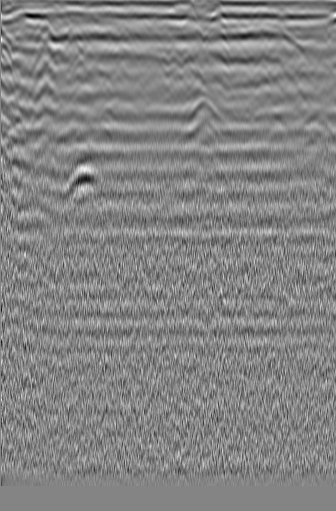상수: (280, 42, 307, 72)
오수: (24, 19, 57, 63)
우수: (136, 43, 165, 78)
